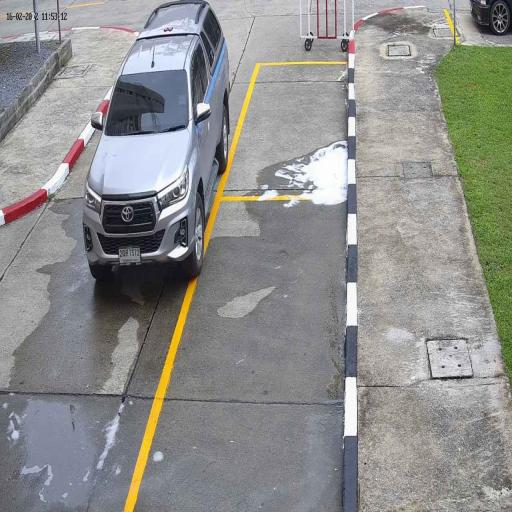car: (81, 0, 234, 289)
